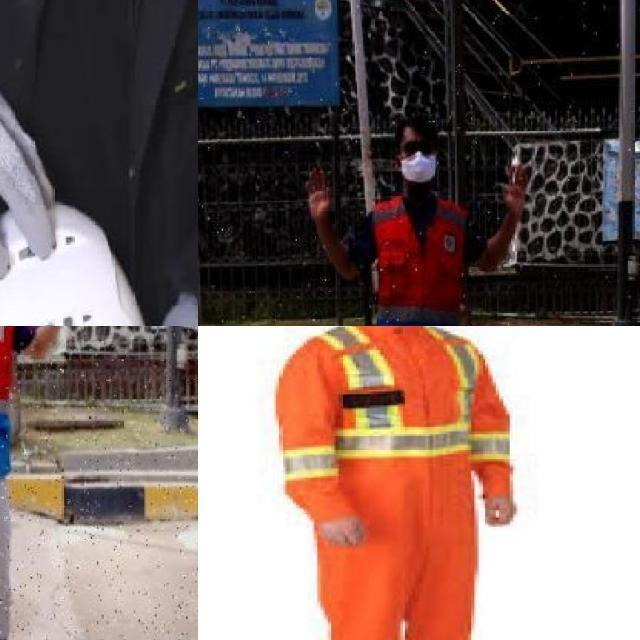apron: (0, 36, 57, 307)
